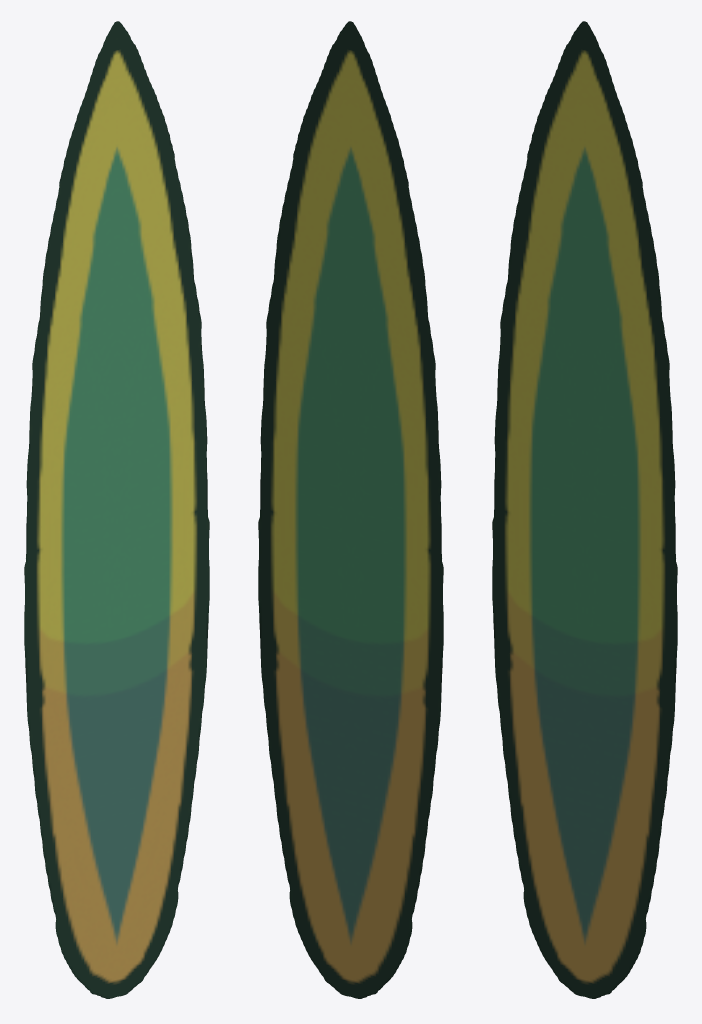
Rendered from HojaD.fbx.
3 renders of one model, left to right at view 1: azimuth 30°, elevation 25°; view 2: azimuth 150°, elevation 25°; view 3: azimuth 330°, elevation 25°, orthographic.
Parts seen in each view (by area): view 1: HojaD; view 2: HojaD; view 3: HojaD.
Part boxes in pixels (box(x1,y1,x2,y2)): HojaD: box(24, 21, 209, 998); HojaD: box(258, 21, 443, 998); HojaD: box(492, 21, 677, 998).
Size of the model in its own units: 0.211 by 0.9671 by 4.23e-08.
